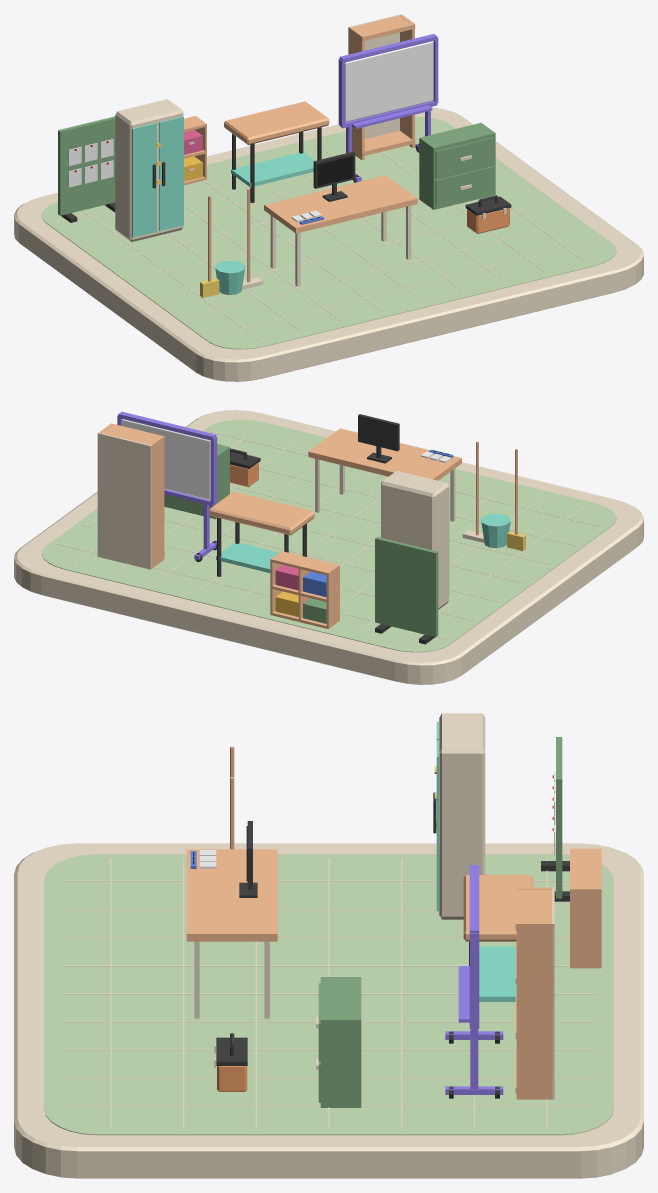
The picture shows the model from 3 angles, top to bottom: view 1: azimuth 30°, elevation 25°; view 2: azimuth 150°, elevation 25°; view 3: azimuth 270°, elevation 25°; orthographic projection. The views are drawn at different scales.
Parts seen in each view (by area): view 1: COM-02 Floor Surface, COM-01 Rounded Base Direct, Cabinet, Top, Writing surface, Panel, Equipment case, Door, Worktop, Door.001, Lower shelf, Frame (+12 smaller); view 2: COM-02 Floor Surface, COM-01 Rounded Base Direct, Back, Panel, Equipment case, Top, Writing surface, Worktop, Side, Frame, Cabinet, Lower shelf (+11 smaller); view 3: COM-02 Floor Surface, COM-01 Rounded Base Direct, Top, Equipment case, Side.001, Cabinet, Worktop, Cubbies divider.002, Lower shelf, Shelf.003, Cubbies shelf.002, Panel (+10 smaller).
Part boxes in pixels (<box>): COM-02 Floor Surface: <box>41,116,616,349</box>; COM-01 Rounded Base Direct: <box>14,107,643,381</box>; Cabinet: <box>419,122,495,209</box>; Top: <box>264,175,417,286</box>; Writing surface: <box>345,41,433,122</box>; Panel: <box>58,116,115,215</box>; Equipment case: <box>115,99,183,241</box>; Door: <box>132,123,156,237</box>; Worktop: <box>224,101,329,144</box>; Door.001: <box>159,116,183,230</box>; Lower shelf: <box>231,152,315,187</box>; Frame: <box>313,151,355,201</box>; COM-02 Floor Surface: <box>41,419,616,652</box>; COM-01 Rounded Base Direct: <box>14,410,643,684</box>; Back: <box>97,432,151,569</box>; Panel: <box>375,537,438,637</box>; Equipment case: <box>381,470,448,609</box>; Top: <box>308,428,461,521</box>; Writing surface: <box>122,419,210,500</box>; Worktop: <box>209,491,314,535</box>; Side: <box>149,435,164,568</box>; Frame: <box>358,414,399,463</box>; Cabinet: <box>164,444,229,519</box>; Lower shelf: <box>216,542,278,572</box>; COM-02 Floor Surface: <box>44,854,613,1135</box>; COM-01 Rounded Base Direct: <box>14,843,643,1178</box>; Top: <box>186,849,277,1018</box>; Equipment case: <box>439,713,485,919</box>; Side.001: <box>516,922,553,1099</box>; Cabinet: <box>316,977,361,1107</box>; Worktop: <box>463,875,533,941</box>; Cubbies divider.002: <box>570,889,601,968</box>; Lower shelf: <box>479,946,516,1001</box>; Shelf.003: <box>515,887,554,930</box>; Cubbies shelf.002: <box>570,848,601,888</box>; Panel: <box>556,737,562,898</box>.
Size of the model in its own units: 6 by 1.9 by 5.2.
Materials: 1 (1 with a texture image).
